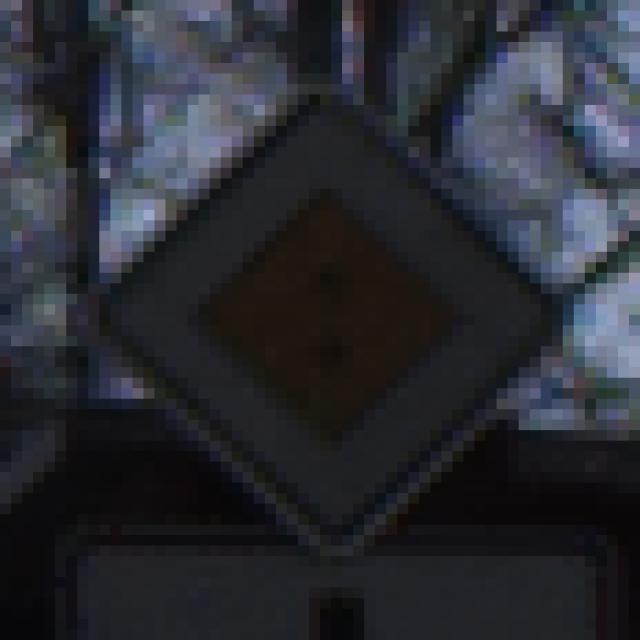Main Road: (56, 54, 586, 589)
